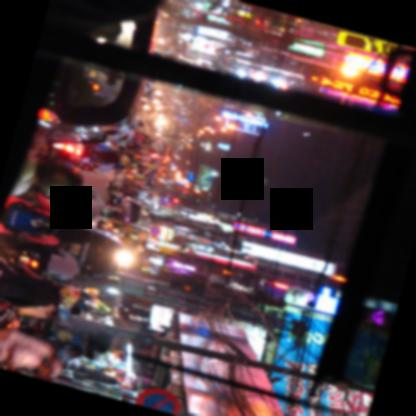backpack: (0, 201, 70, 242), (0, 270, 56, 307)
